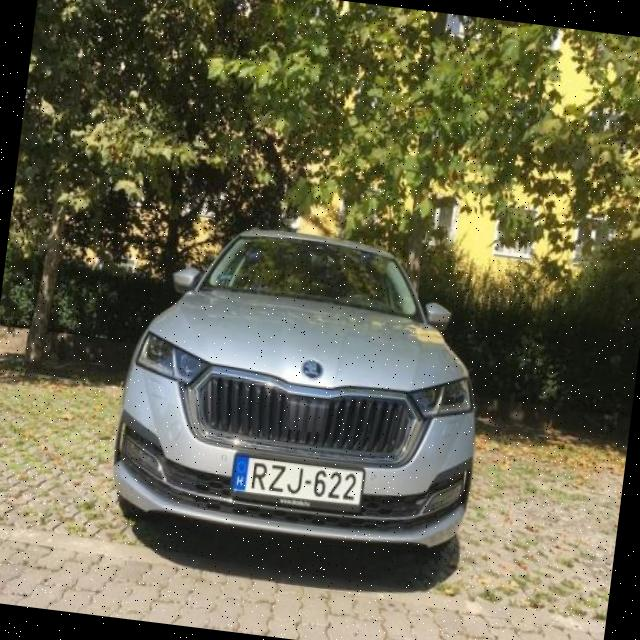licence: (226, 450, 368, 520)
